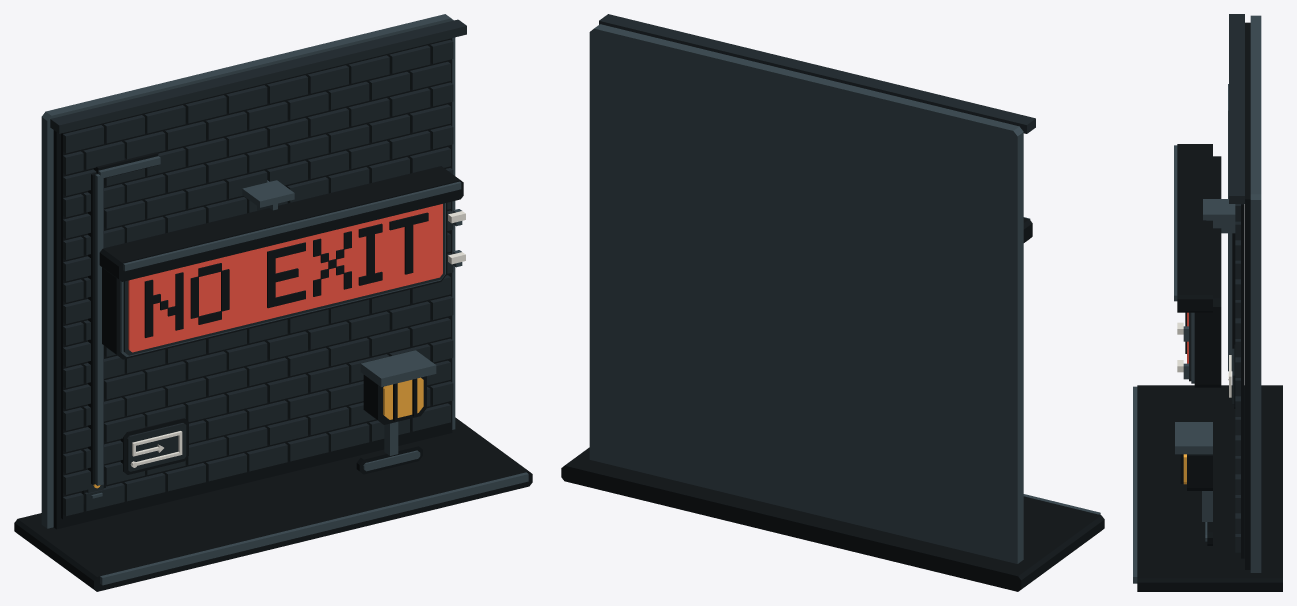
3 views of the same model, side by side, from view 1: azimuth 30°, elevation 25°; view 2: azimuth 150°, elevation 25°; view 3: azimuth 270°, elevation 25° (orthographic). The views are drawn at different scales.
Parts seen in each view (by area): view 1: Exit Liquidity sign; view 2: Exit Liquidity sign; view 3: Exit Liquidity sign.
Part boxes in pixels (x1=…): Exit Liquidity sign: x1=14, y1=14, x2=532, y2=591; Exit Liquidity sign: x1=561, y1=14, x2=1104, y2=591; Exit Liquidity sign: x1=1133, y1=14, x2=1282, y2=591.
Bounding box in the file's own units: 1.08 × 1 × 0.3475.
